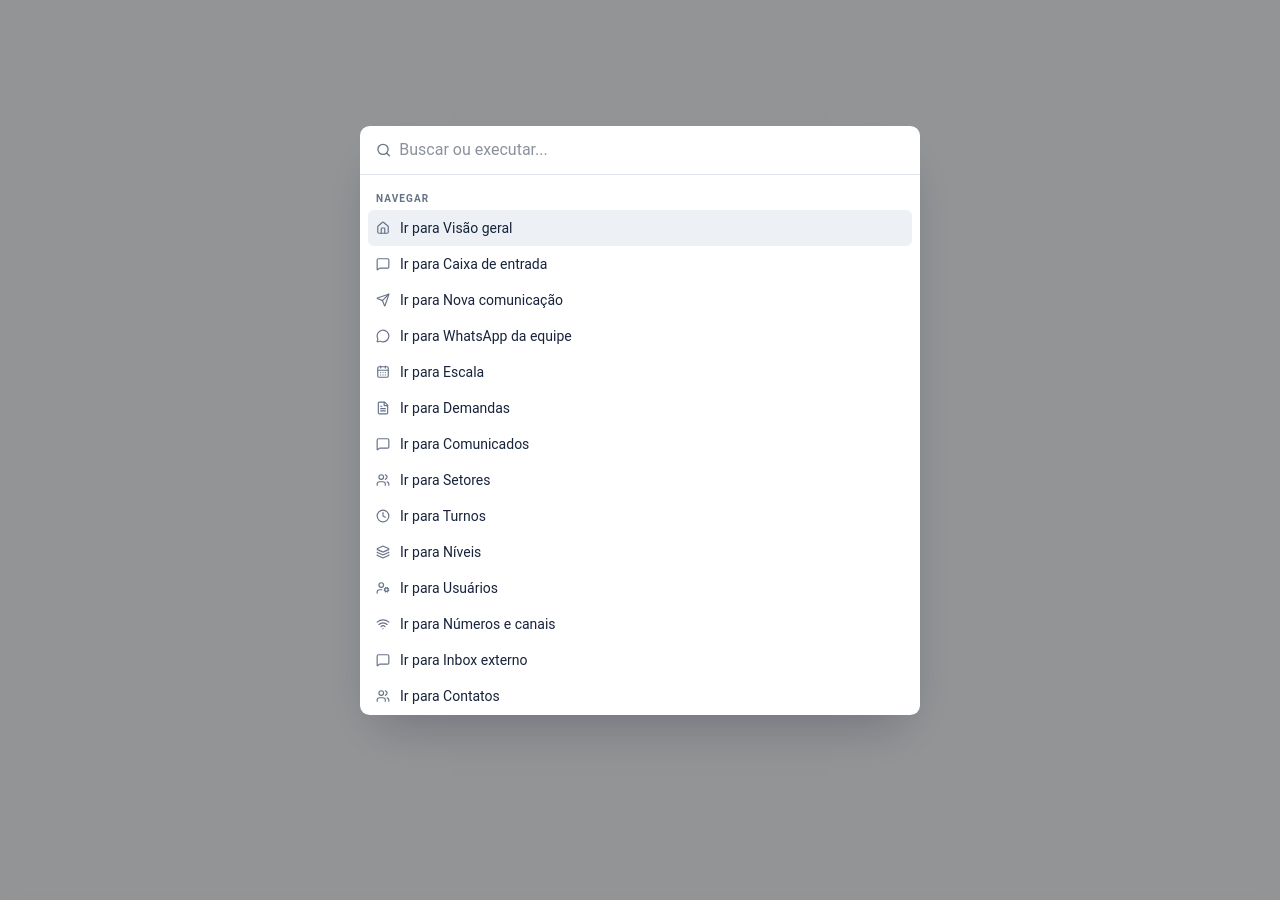
Scenario: CommandPalette keyboard behavior › filtra comandos pela busca
Type "demanda" into the field with placeholder "Buscar ou executar...".
click(652, 150); type("demanda")  # box [399, 138, 904, 162]
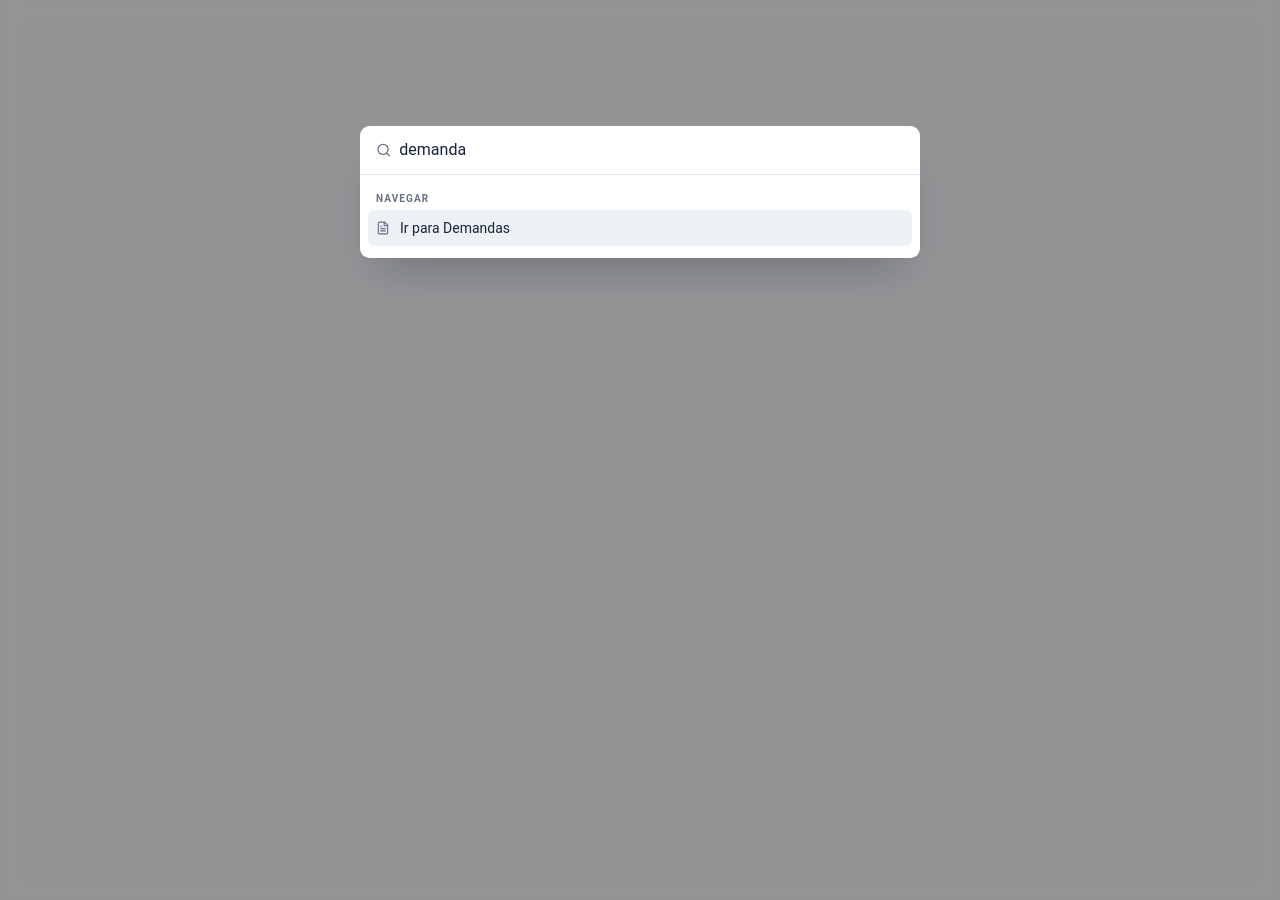
Expected: the text "Ir para Demandas" is shown, [400, 218, 510, 238]
Result: the option "Ir para Nova comunicação" is gone
